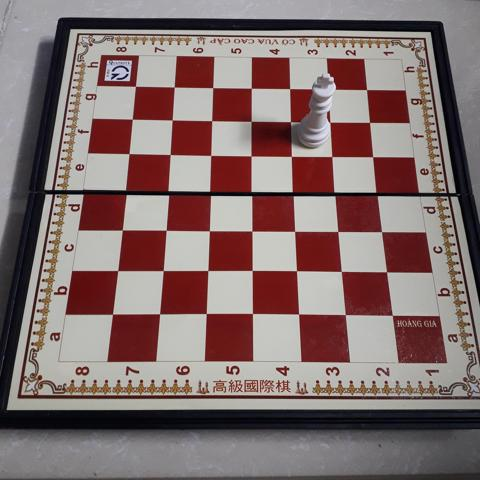xcorner: (292, 306, 308, 323), (338, 307, 355, 323), (385, 307, 401, 324), (154, 261, 171, 277), (113, 219, 130, 235), (288, 221, 305, 237), (375, 222, 392, 238), (202, 181, 219, 197), (245, 181, 261, 198), (329, 182, 345, 199), (122, 143, 138, 160), (204, 144, 220, 161), (285, 146, 302, 162), (205, 110, 221, 127), (244, 111, 261, 127), (167, 78, 184, 94), (206, 78, 222, 95), (244, 79, 261, 95), (283, 79, 299, 96), (104, 305, 120, 321), (151, 305, 167, 321), (198, 306, 214, 322), (245, 306, 261, 322), (109, 260, 125, 276), (200, 261, 216, 277), (245, 262, 261, 278), (290, 262, 306, 278), (335, 263, 351, 279), (380, 263, 396, 279), (157, 219, 173, 235), (201, 220, 217, 236), (245, 220, 261, 236), (332, 221, 348, 237), (118, 180, 134, 196), (160, 180, 176, 196), (287, 182, 303, 198), (371, 183, 387, 199), (163, 144, 179, 160), (245, 145, 261, 161), (326, 146, 342, 162), (367, 147, 383, 163), (125, 109, 141, 125), (165, 110, 181, 126), (284, 112, 300, 128), (324, 112, 340, 128), (363, 113, 379, 129), (129, 77, 145, 93), (321, 80, 337, 96), (360, 81, 376, 97)
